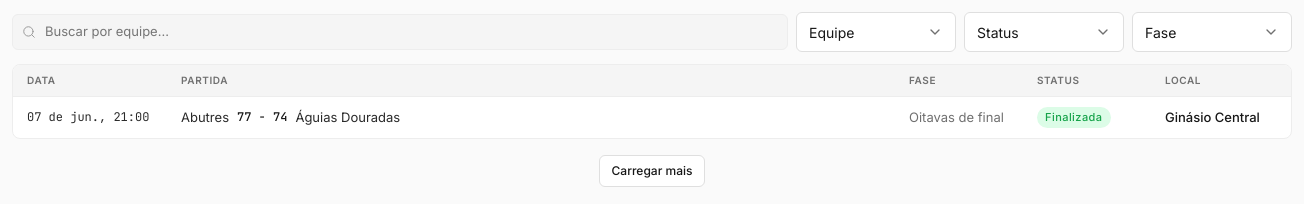
Test: MatchesTab › appends the next page and drops the control on the last one
Click the button "Carregar mais".
click(652, 170)  # box [598,154,705,186]
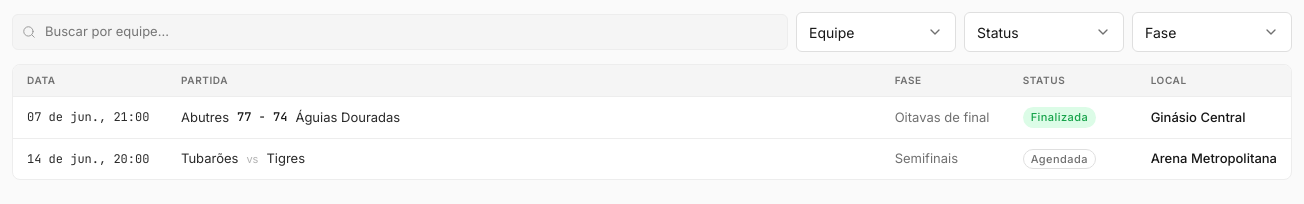
Expected: the link labelled "Abutres 77 - 74 Águias Douradas" is shown, [181,108,400,125]
Expected: the link labelled "Tubarões vs Tigres" is shown, [181,150,305,166]
Expected: the button "Carregar mais" is gone
